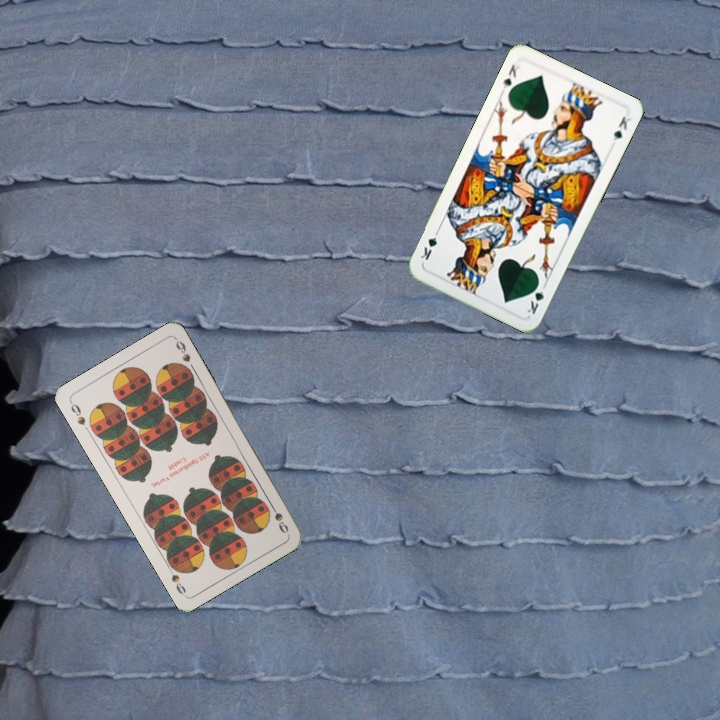GK: (523, 278, 549, 317), (497, 60, 523, 95)
S9: (265, 498, 291, 536), (66, 397, 88, 428)
